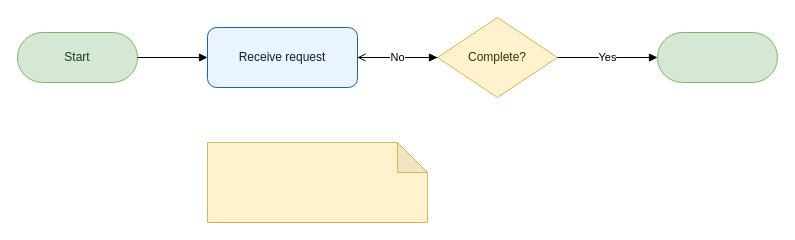
Some shapes in this 795 by 240 pixel diagram are drawn without their labels. Each missing label, with the box of its shape:
Add cycle time or owner metadata as needed.: (206, 142, 428, 222)
Done: (656, 32, 778, 82)
